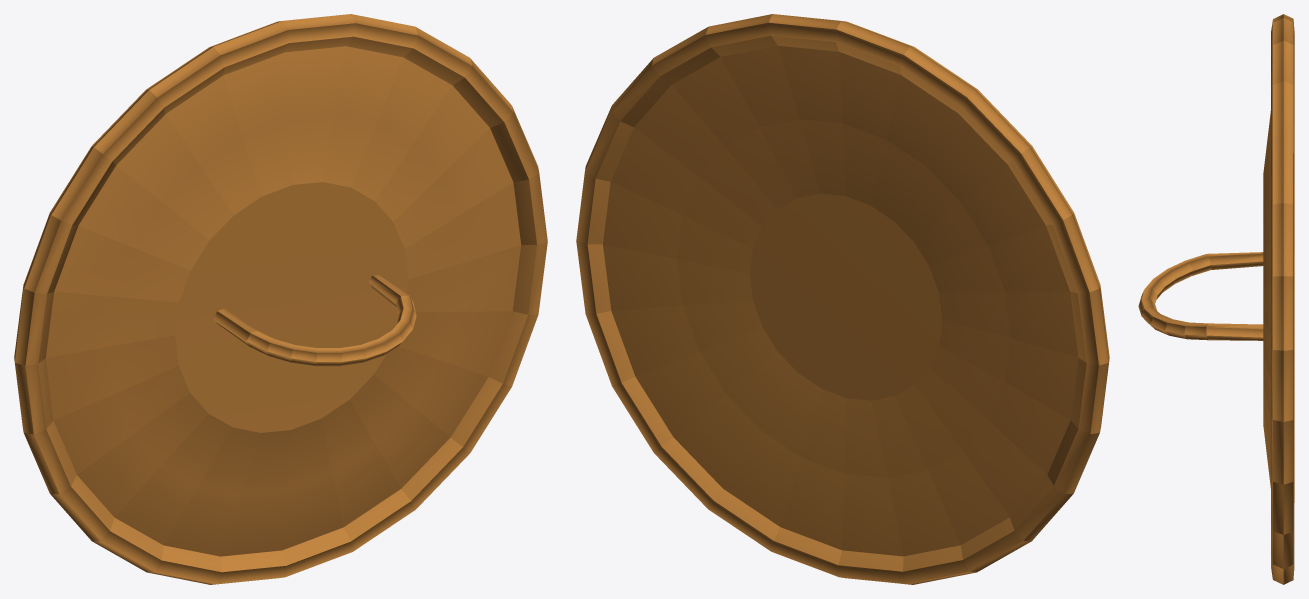
File: LidmeshLaundryHamperLid_1_1.obj
3 renders of one model, left to right at view 1: azimuth 30°, elevation 25°; view 2: azimuth 150°, elevation 25°; view 3: azimuth 270°, elevation 25°, orthographic. The views are drawn at different scales.
Visible parts, largest first — view 1: LaundryHamperLid_1; view 2: LaundryHamperLid_1; view 3: LaundryHamperLid_1.
Boxes of the visible parts, x1=… form: LaundryHamperLid_1: x1=14, y1=14, x2=547, y2=584; LaundryHamperLid_1: x1=576, y1=14, x2=1109, y2=584; LaundryHamperLid_1: x1=1138, y1=14, x2=1294, y2=584.
Bounding box in the file's own units: 0.3597 × 0.3597 × 0.098.
